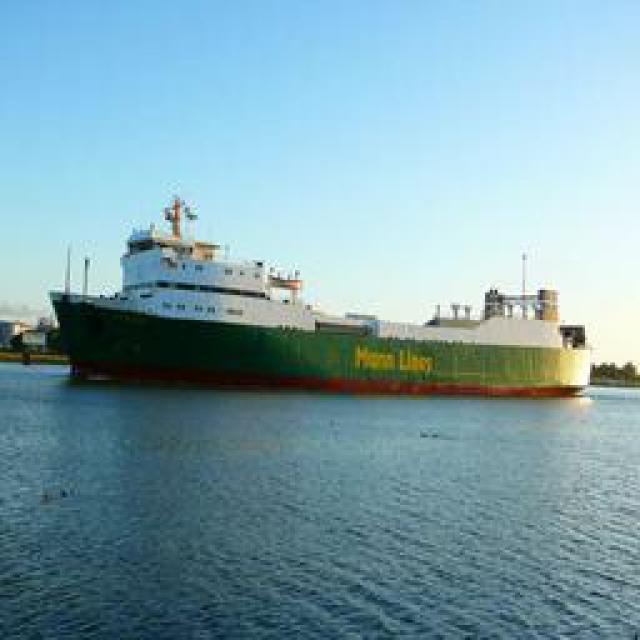Ship: (47, 196, 607, 396)
